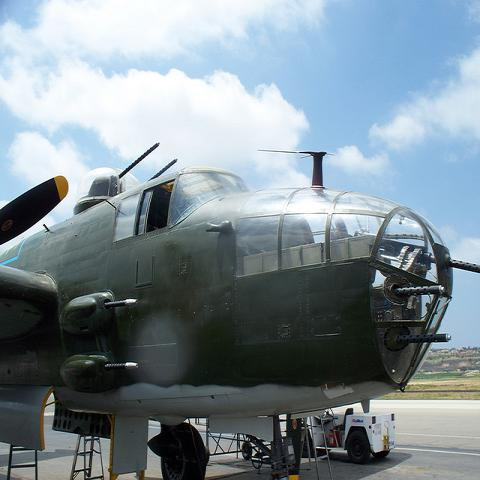truck: (321, 408, 396, 462)
